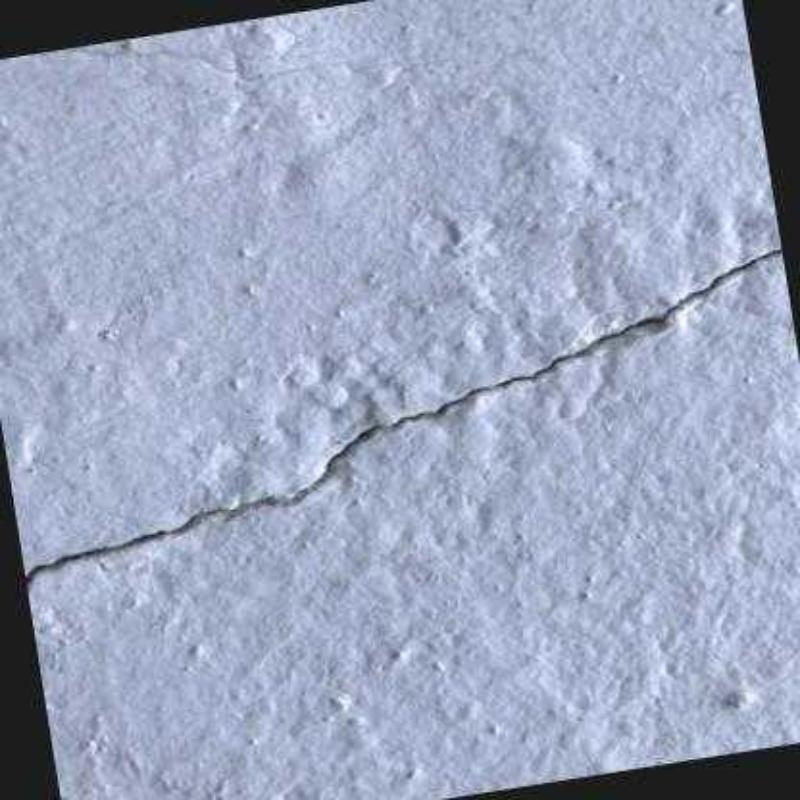pothole: (21, 245, 779, 591)
